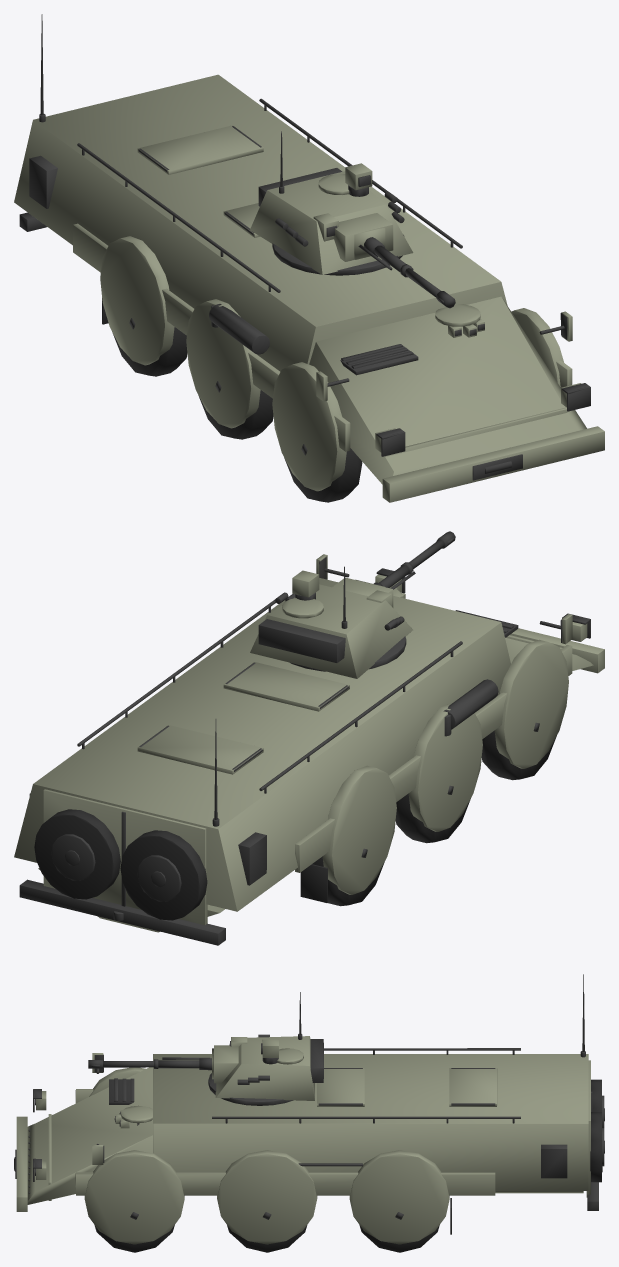
Rendered from apc.glb.
3 views of the same model, one above another, from view 1: azimuth 30°, elevation 25°; view 2: azimuth 150°, elevation 25°; view 3: azimuth 270°, elevation 25° (orthographic). The views are drawn at different scales.
Parts seen in each view (by area): view 1: body, turret, gun, wheel_fr, wheel_mr, wheel_rr; view 2: body, turret, wheel_fr, wheel_mr, gun, wheel_rr; view 3: body, turret, gun, wheel_fl, wheel_rl, wheel_ml.
Boxes of the visible parts, x1=… form: body: x1=14, y1=14, x2=604, y2=502; turret: x1=250, y1=131, x2=413, y2=275; gun: x1=354, y1=227, x2=455, y2=308; wheel_fr: x1=284, y1=444, x2=362, y2=502; wheel_mr: x1=198, y1=381, x2=273, y2=439; wheel_rr: x1=112, y1=318, x2=187, y2=376; body: x1=14, y1=554, x2=604, y2=945; turret: x1=250, y1=566, x2=412, y2=678; wheel_fr: x1=481, y1=722, x2=556, y2=780; wheel_mr: x1=395, y1=785, x2=470, y2=843; gun: x1=355, y1=531, x2=455, y2=589; wheel_rr: x1=312, y1=848, x2=384, y2=906; body: x1=14, y1=974, x2=604, y2=1244; turret: x1=208, y1=992, x2=323, y2=1105; gun: x1=88, y1=1049, x2=213, y2=1079; wheel_fl: x1=94, y1=1212, x2=174, y2=1252; wheel_rl: x1=359, y1=1212, x2=439, y2=1252; wheel_ml: x1=227, y1=1212, x2=307, y2=1252.
Bounding box in the file's own units: 3.01 × 3.12 × 8.03.
